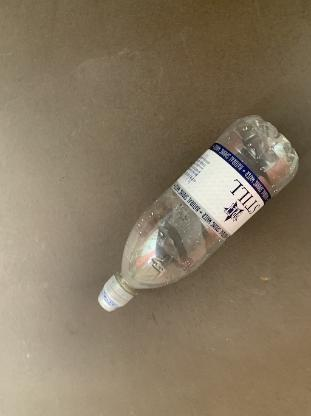Plastic Bottle: (97, 114, 299, 312)
